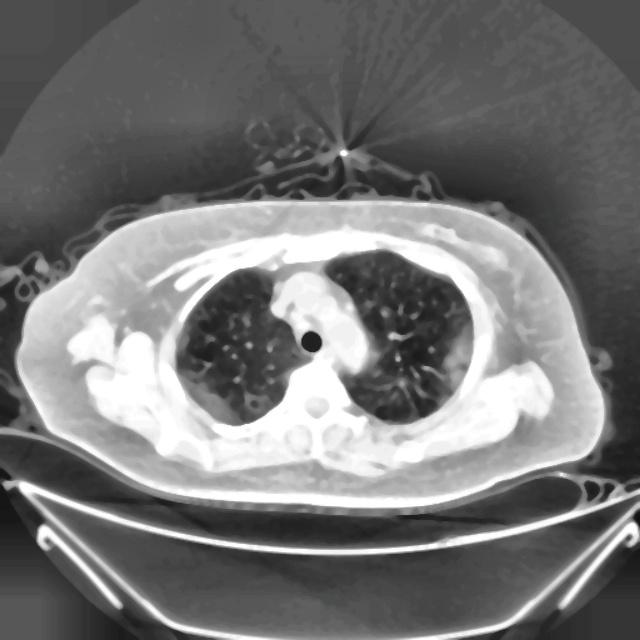covid: (15, 193, 606, 511)
